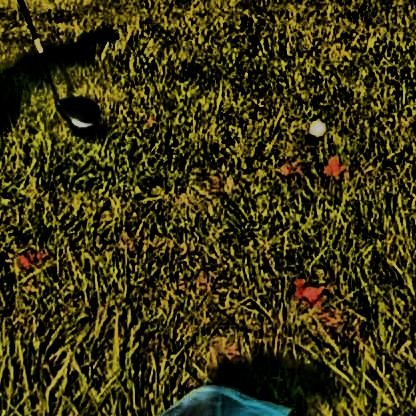golfball: (303, 115, 324, 136)
